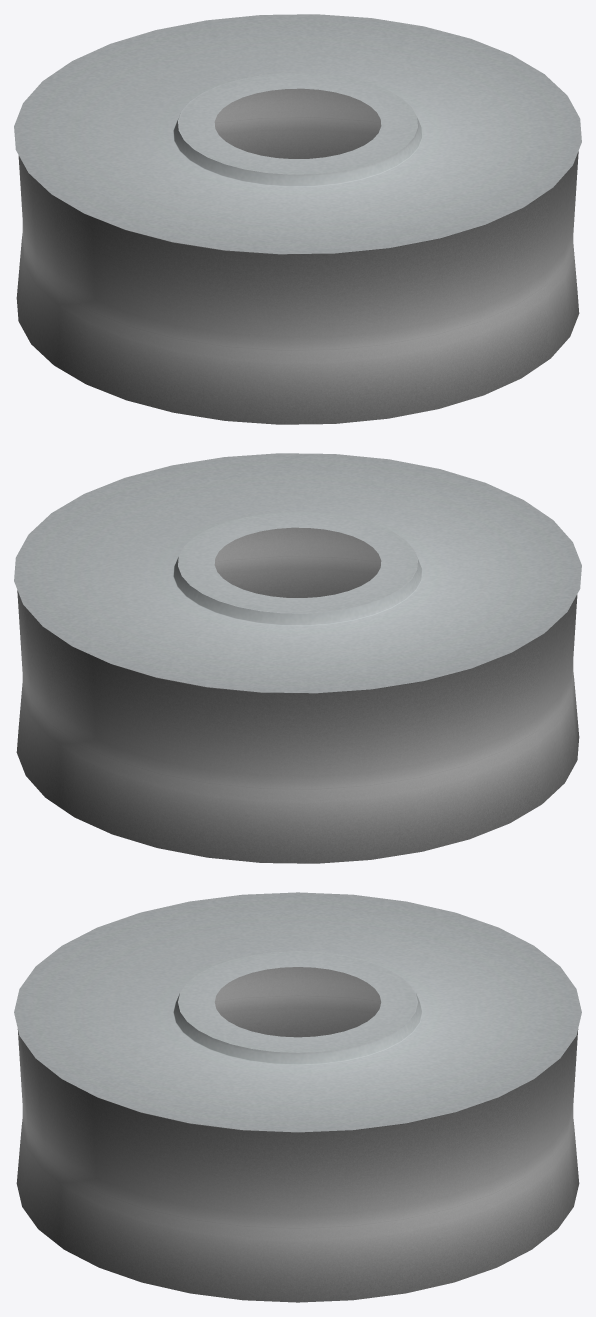
Rendered from BG_tihuan.FBX.
3 views of the same model, one above another, from view 1: azimuth 30°, elevation 25°; view 2: azimuth 150°, elevation 25°; view 3: azimuth 270°, elevation 25° (orthographic).
Visible parts, largest first — view 1: Dummy010; view 2: Dummy010; view 3: Dummy010.
Boxes of the visible parts, x1=… form: Dummy010: x1=14, y1=14, x2=581, y2=424; Dummy010: x1=14, y1=453, x2=581, y2=863; Dummy010: x1=14, y1=892, x2=581, y2=1302.
Bounding box in the file's own units: 1367 × 482 × 1367.
